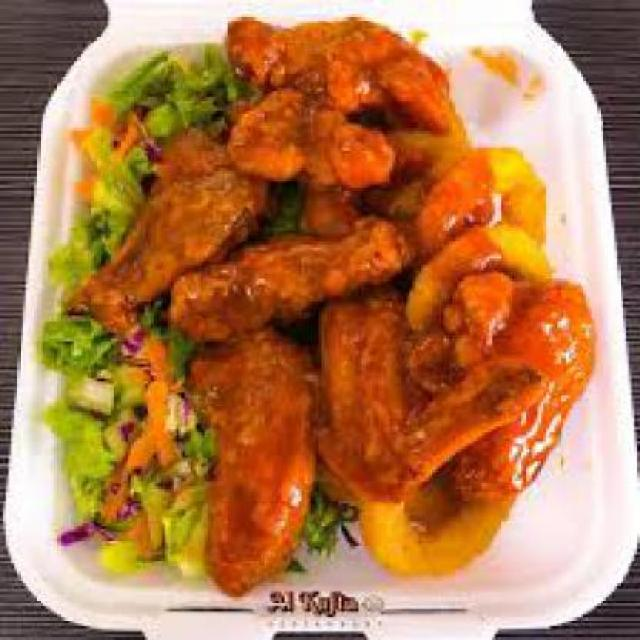chicken wings: (122, 9, 598, 580)
onion rings: (328, 76, 597, 595)
